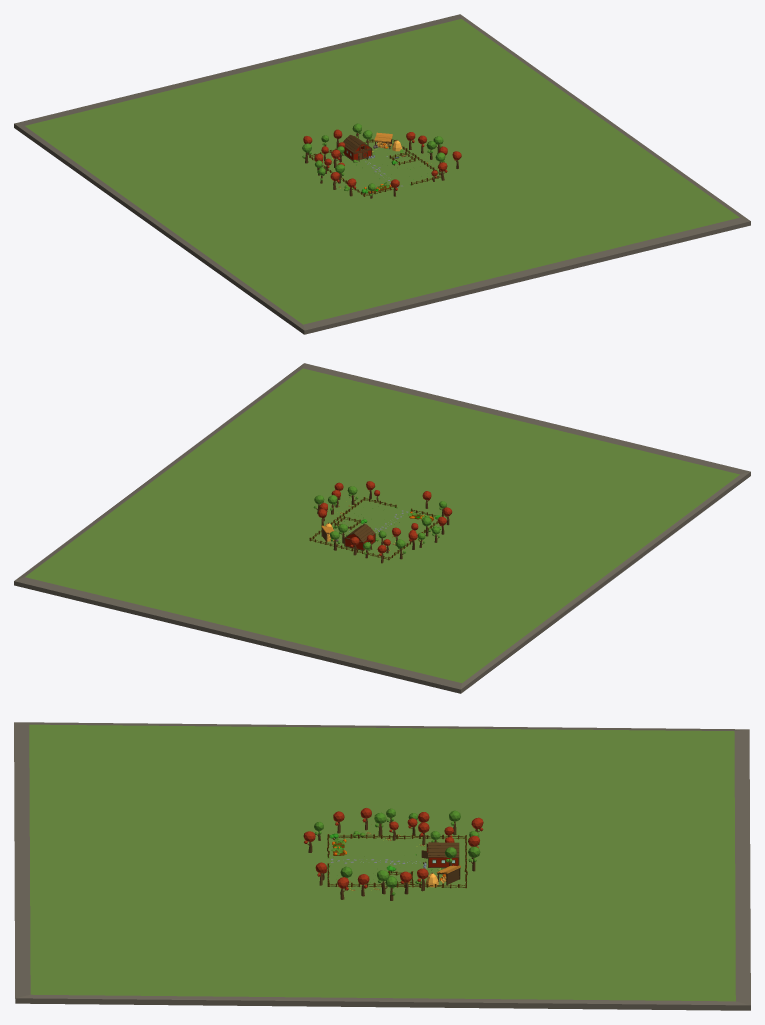
File: ground2.glb
3 renders of one model, top to bottom at view 1: azimuth 30°, elevation 25°; view 2: azimuth 150°, elevation 25°; view 3: azimuth 270°, elevation 25°, orthographic. The views are drawn at different scales.
Visible parts, largest first — view 1: terrain, ambar; view 2: terrain; view 3: terrain, ambar.
Part boxes in pixels (x1,y1,x2,y2): terrain: [14, 14, 750, 334]; ambar: [342, 135, 372, 161]; terrain: [14, 363, 750, 693]; terrain: [14, 722, 750, 1010]; ambar: [421, 842, 459, 868].
Size of the model in its own units: 187 by 10.44 by 211.
